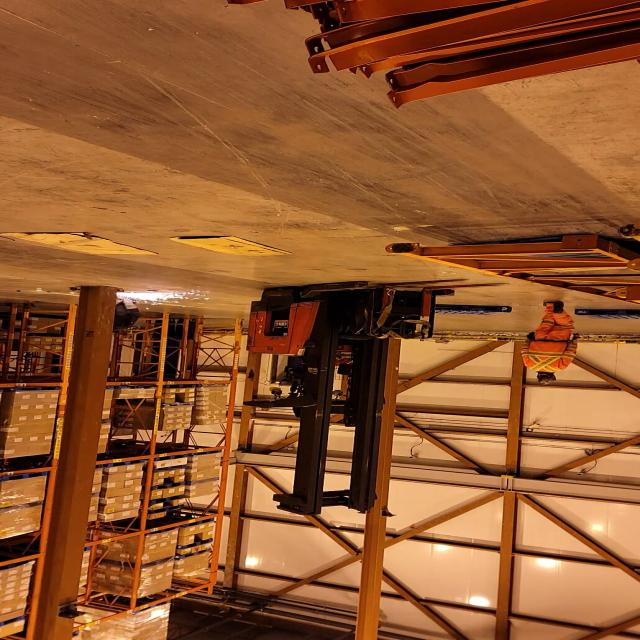forklift: (244, 279, 457, 506)
human: (514, 302, 580, 387), (76, 295, 152, 342)
objectofinterest: (378, 227, 640, 302), (0, 230, 162, 259), (164, 232, 302, 260), (571, 306, 640, 322)
